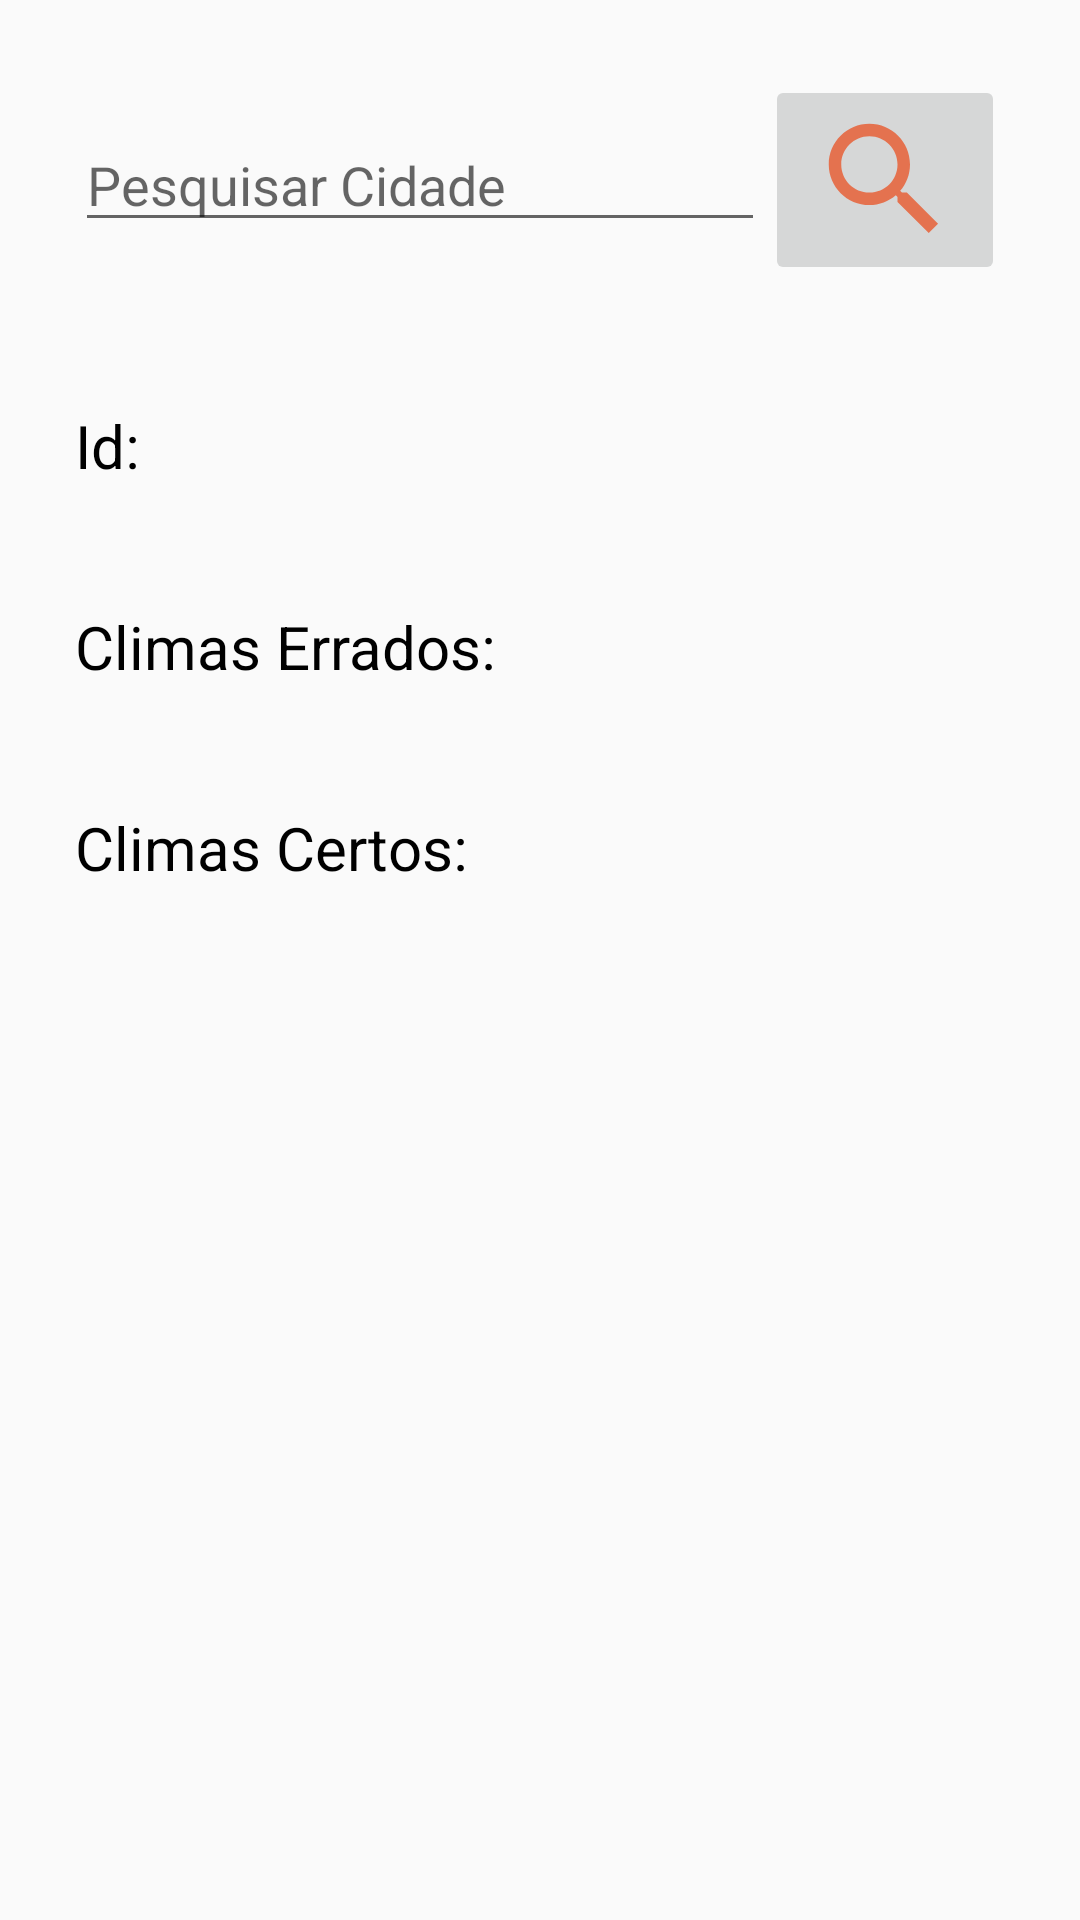

Where icons sit on this 1080*1920 app screen, as (x1, y1, x2, y2):
search: (777, 93, 993, 267)
